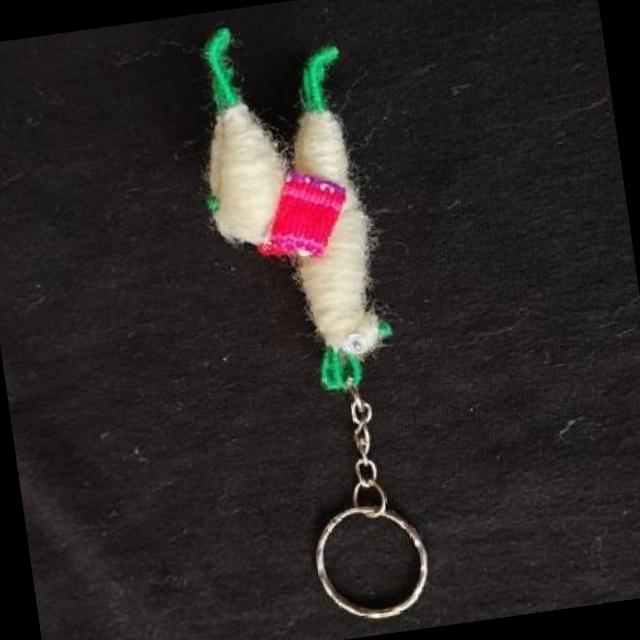Llavero: (182, 9, 402, 406)
